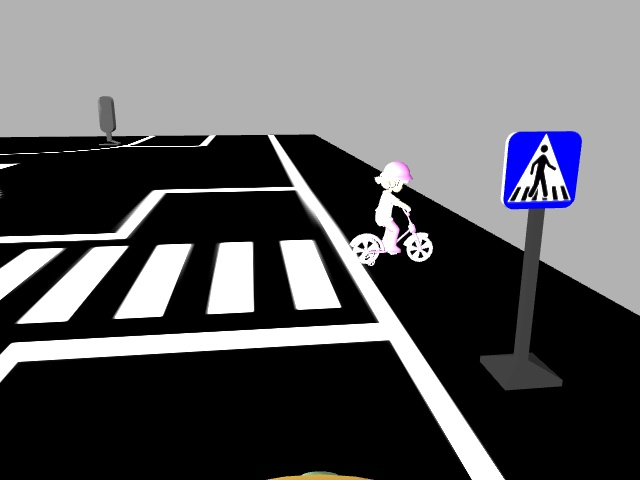Crosswalk: (502, 129, 583, 209)
Pedestrian: (339, 150, 438, 272)
